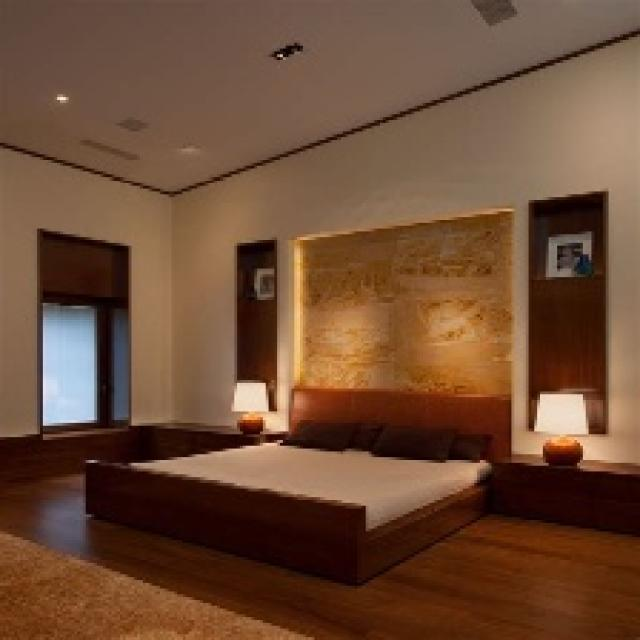Bed: (83, 386, 508, 586)
